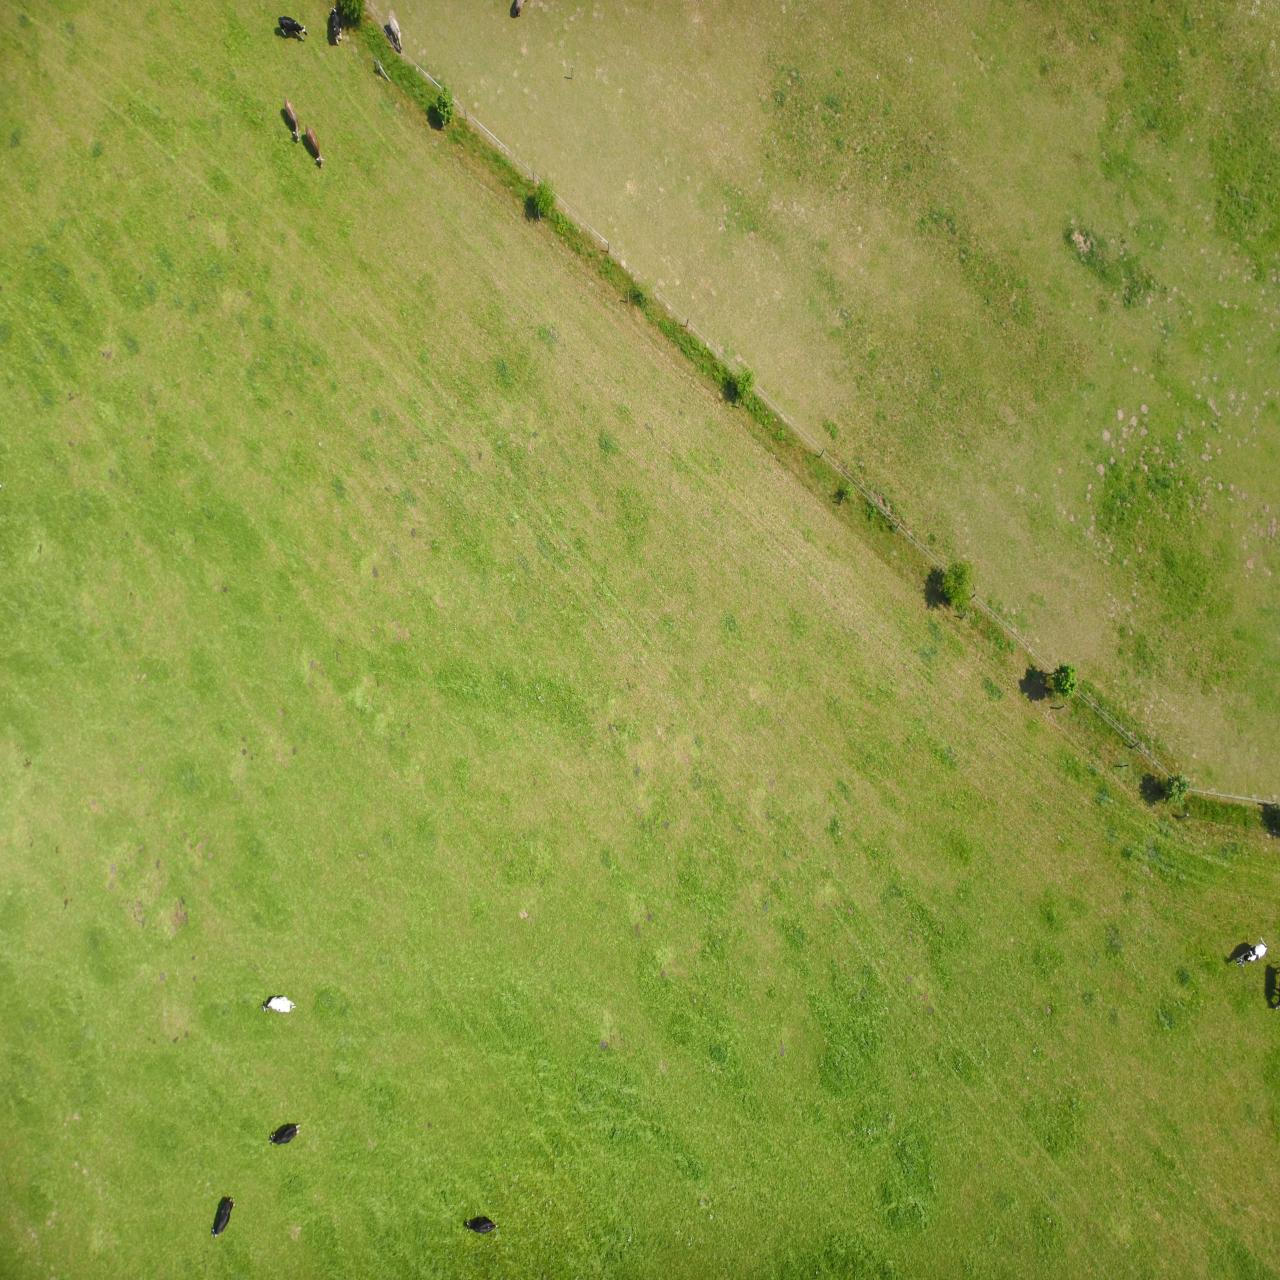cow: (1044, 41, 1068, 84), (13, 313, 45, 342), (955, 1112, 975, 1157), (979, 1137, 998, 1183), (979, 134, 1010, 156), (983, 266, 1017, 285), (782, 45, 813, 63), (973, 1246, 1002, 1264), (938, 1234, 949, 1274)
